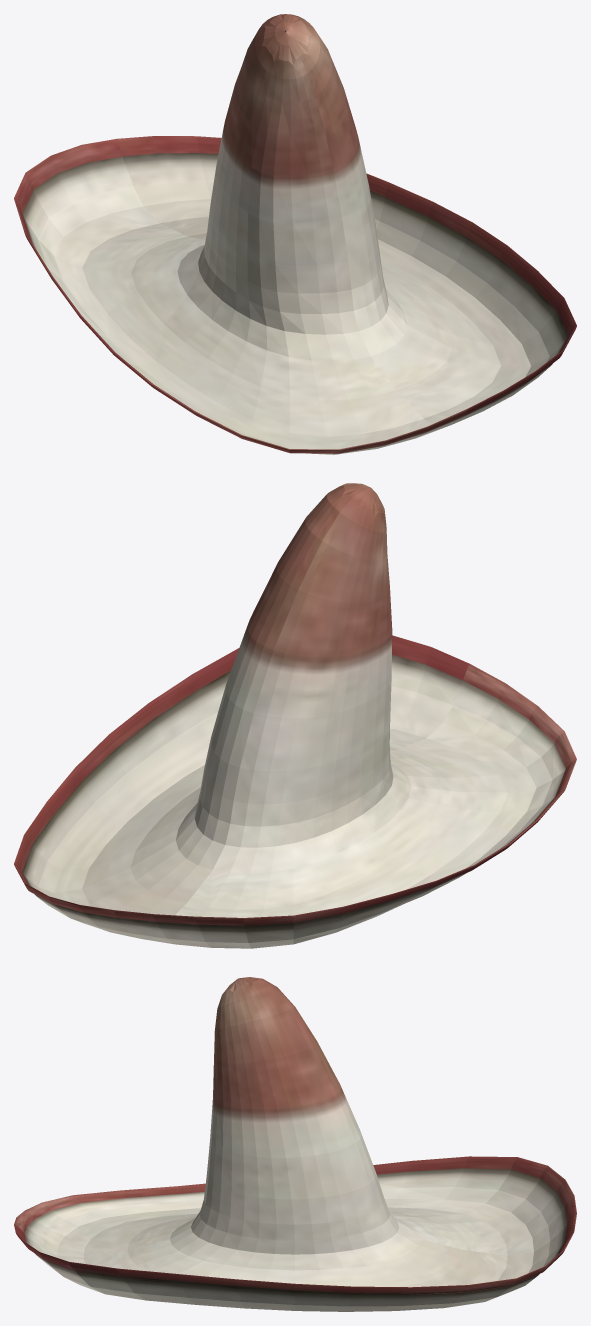
The model's file is cowboy.glb.
The picture shows the model from 3 angles, top to bottom: view 1: azimuth 30°, elevation 25°; view 2: azimuth 150°, elevation 25°; view 3: azimuth 270°, elevation 25°; orthographic projection. The views are drawn at different scales.
Parts seen in each view (by area): view 1: 1T2Y19A6NA3V3ENJ2VLSAB41K.002; view 2: 1T2Y19A6NA3V3ENJ2VLSAB41K.002; view 3: 1T2Y19A6NA3V3ENJ2VLSAB41K.002.
Part boxes in pixels (x1,y1,x2,y2): 1T2Y19A6NA3V3ENJ2VLSAB41K.002: [14, 14, 576, 454]; 1T2Y19A6NA3V3ENJ2VLSAB41K.002: [14, 483, 576, 948]; 1T2Y19A6NA3V3ENJ2VLSAB41K.002: [14, 977, 576, 1311].
Bounding box in the file's own units: 1.49 × 1.35 × 2.5.
1 material, 1 textured.
